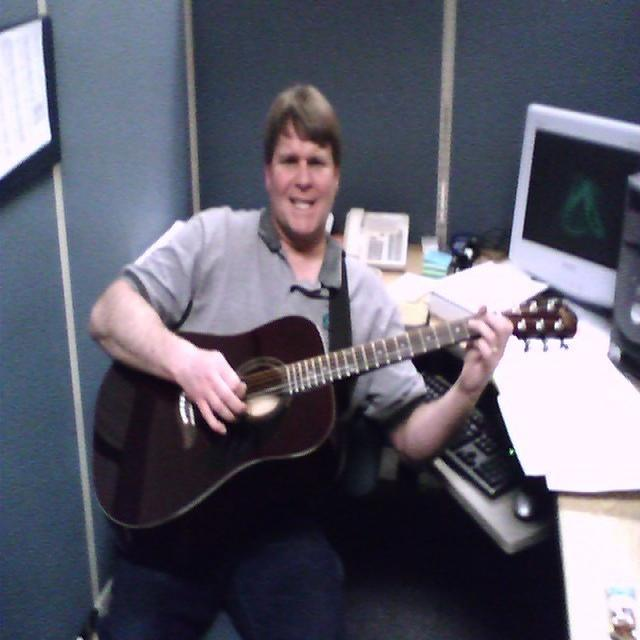guitar: (93, 296, 578, 548)
